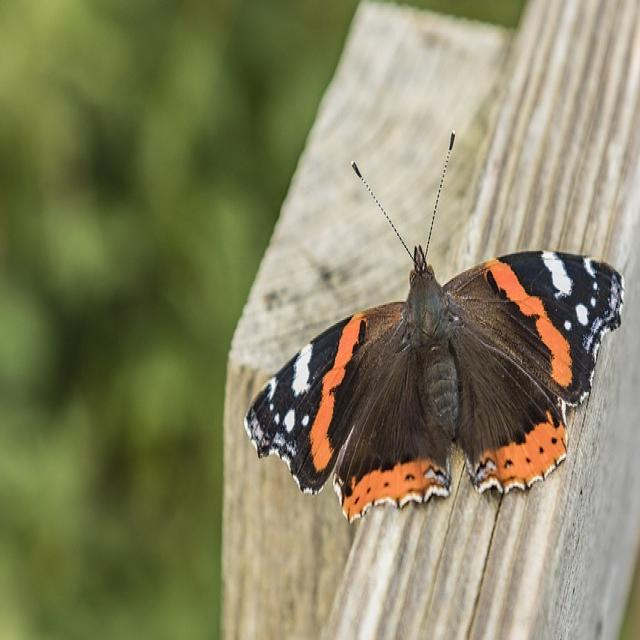butterfly: (244, 248, 624, 524)
